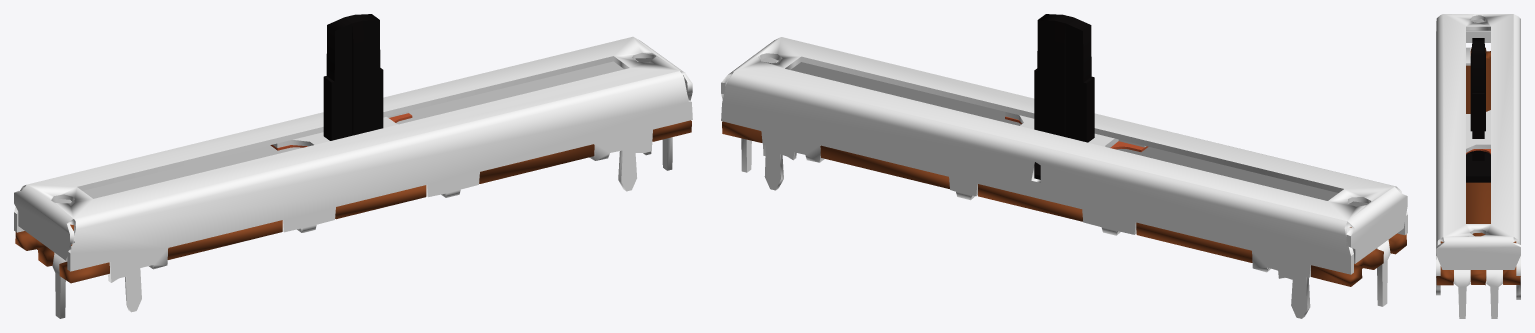
Rendered from fader.glb.
3 views of the same model, side by side, from view 1: azimuth 30°, elevation 25°; view 2: azimuth 150°, elevation 25°; view 3: azimuth 270°, elevation 25° (orthographic). The views are drawn at different scales.
Parts seen in each view (by area): view 1: Solid3, Solid1; view 2: Solid3, Solid1; view 3: Solid3, Solid1.
Boxes of the visible parts, bbox=[...] form: Solid3: bbox=[14, 36, 692, 318]; Solid1: bbox=[15, 14, 691, 283]; Solid3: bbox=[721, 37, 1407, 318]; Solid1: bbox=[722, 14, 1406, 286]; Solid3: bbox=[1436, 14, 1520, 318]; Solid1: bbox=[1436, 38, 1520, 285].
Size of the model in its own units: 0.0601 by 0.0199 by 0.0094.
4 materials, 4 textured.
